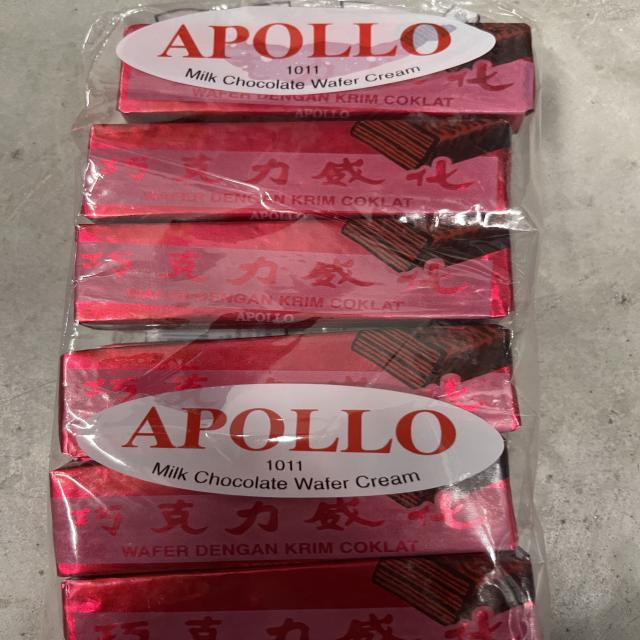object_name: (70, 14, 537, 640)
